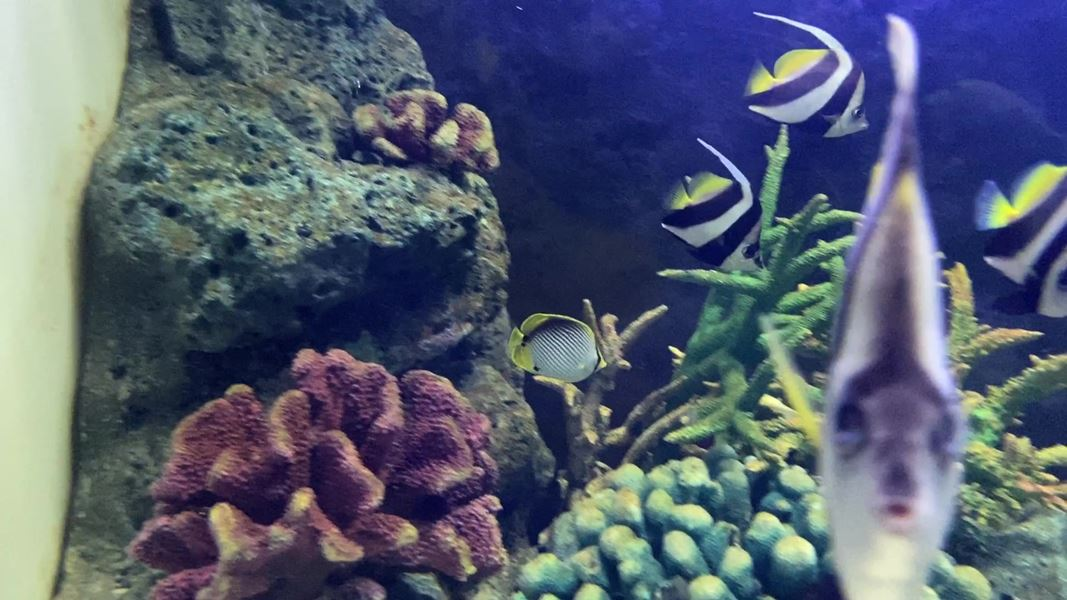Black-backed butterflyfish: (493, 307, 618, 391)
